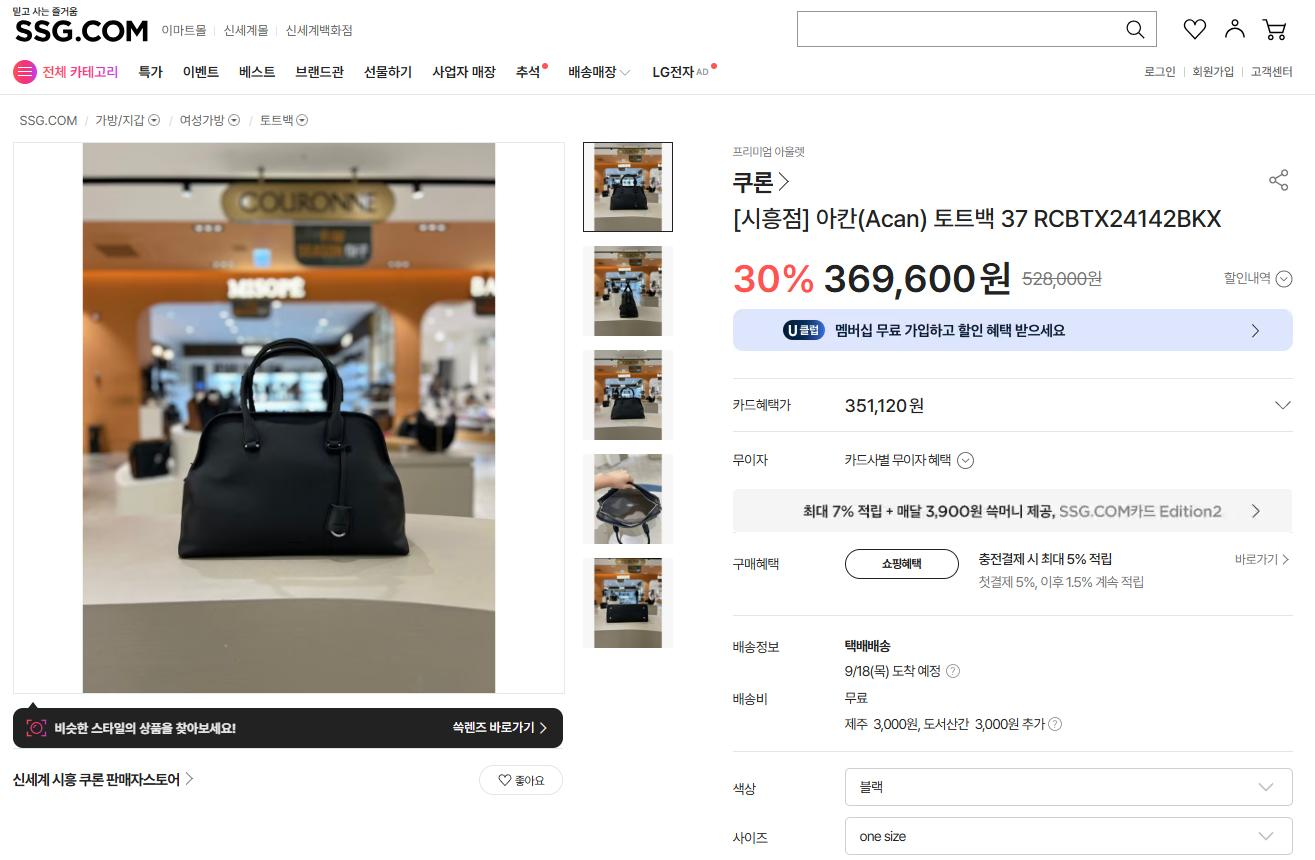button: (6, 765, 205, 795), (474, 760, 572, 800), (10, 55, 124, 85), (730, 162, 800, 204), (643, 58, 729, 92), (431, 54, 501, 90), (1232, 546, 1305, 579), (357, 55, 423, 90), (285, 17, 359, 45), (292, 55, 351, 90), (1259, 165, 1301, 208), (233, 53, 283, 89), (506, 54, 553, 92), (156, 15, 213, 45), (221, 15, 273, 47), (1174, 10, 1212, 50), (180, 54, 224, 88), (1259, 7, 1292, 51), (1219, 7, 1251, 51), (1251, 62, 1303, 86), (136, 53, 170, 89), (1192, 60, 1242, 84), (1140, 60, 1179, 81)
checkbox: (733, 381, 1297, 428), (846, 766, 1296, 807), (843, 817, 1296, 857), (730, 440, 990, 479), (1216, 260, 1301, 296), (564, 55, 635, 87)
input_field: (797, 7, 1165, 51)
popup: (9, 697, 572, 759), (731, 303, 1301, 360), (732, 487, 1293, 536)
